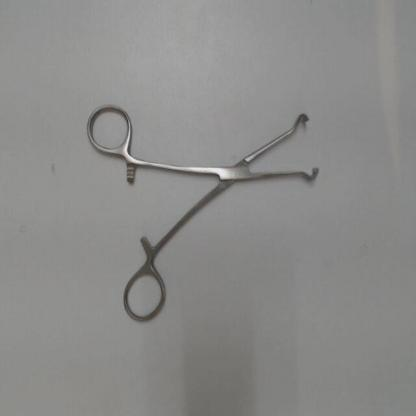Babcock Tissue Forceps: (81, 98, 326, 328)
